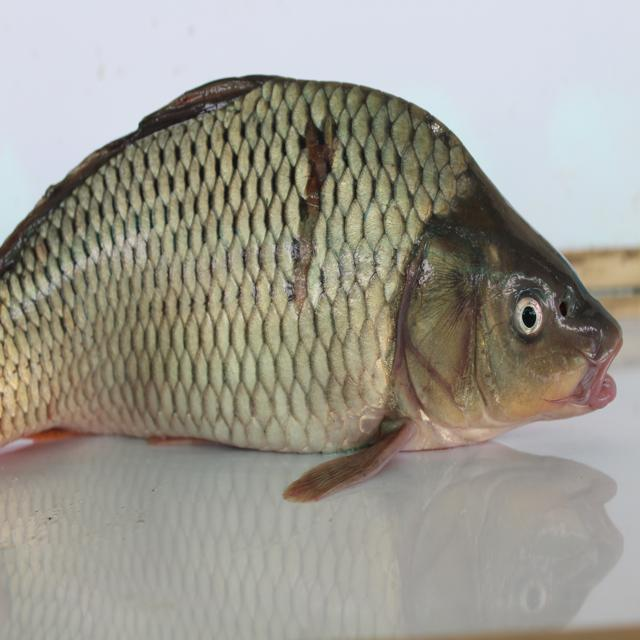CommonCarp: (1, 70, 633, 504)
